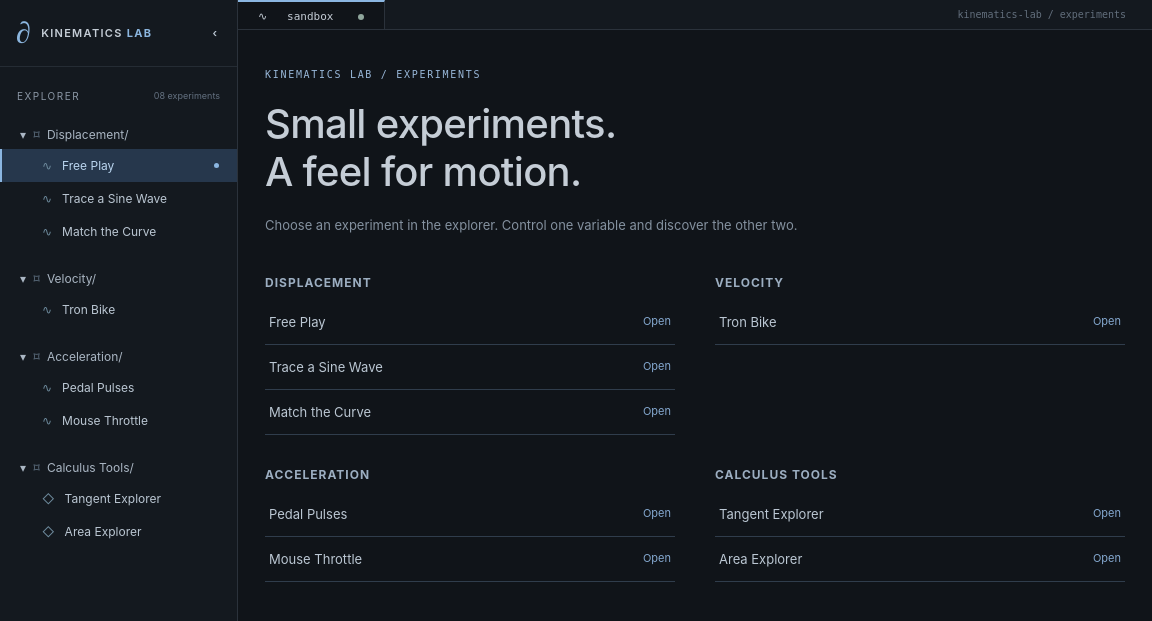
Scenario: stable countdown structure › retains the same scene, control nodes, and graph containers at GO: Mouse Throttle
Click the button "∿ Mouse Throttle": (118, 420) [0,404,237,437]
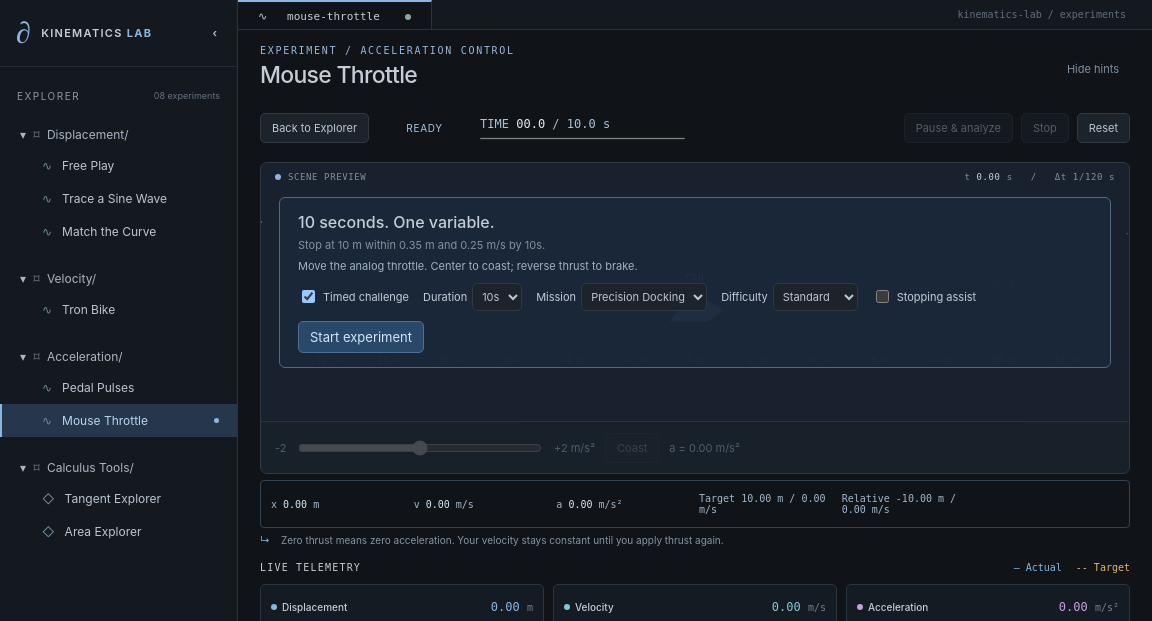
Click the button "Start experiment": (361, 336) [298,320,424,352]
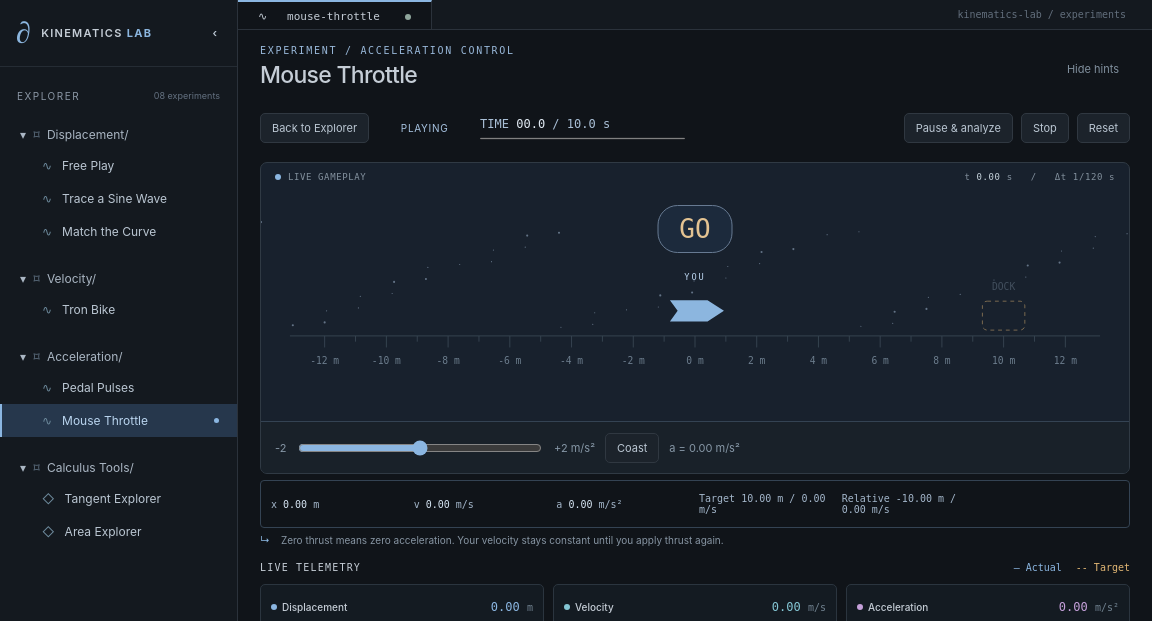
Result: the message with class "countdown" reads "GO" at [679,214,711,244]
Result: the element showing "-2 +2 m/s² Coast a = 0.00 m/s²" is enabled at [261,421,1129,473]
